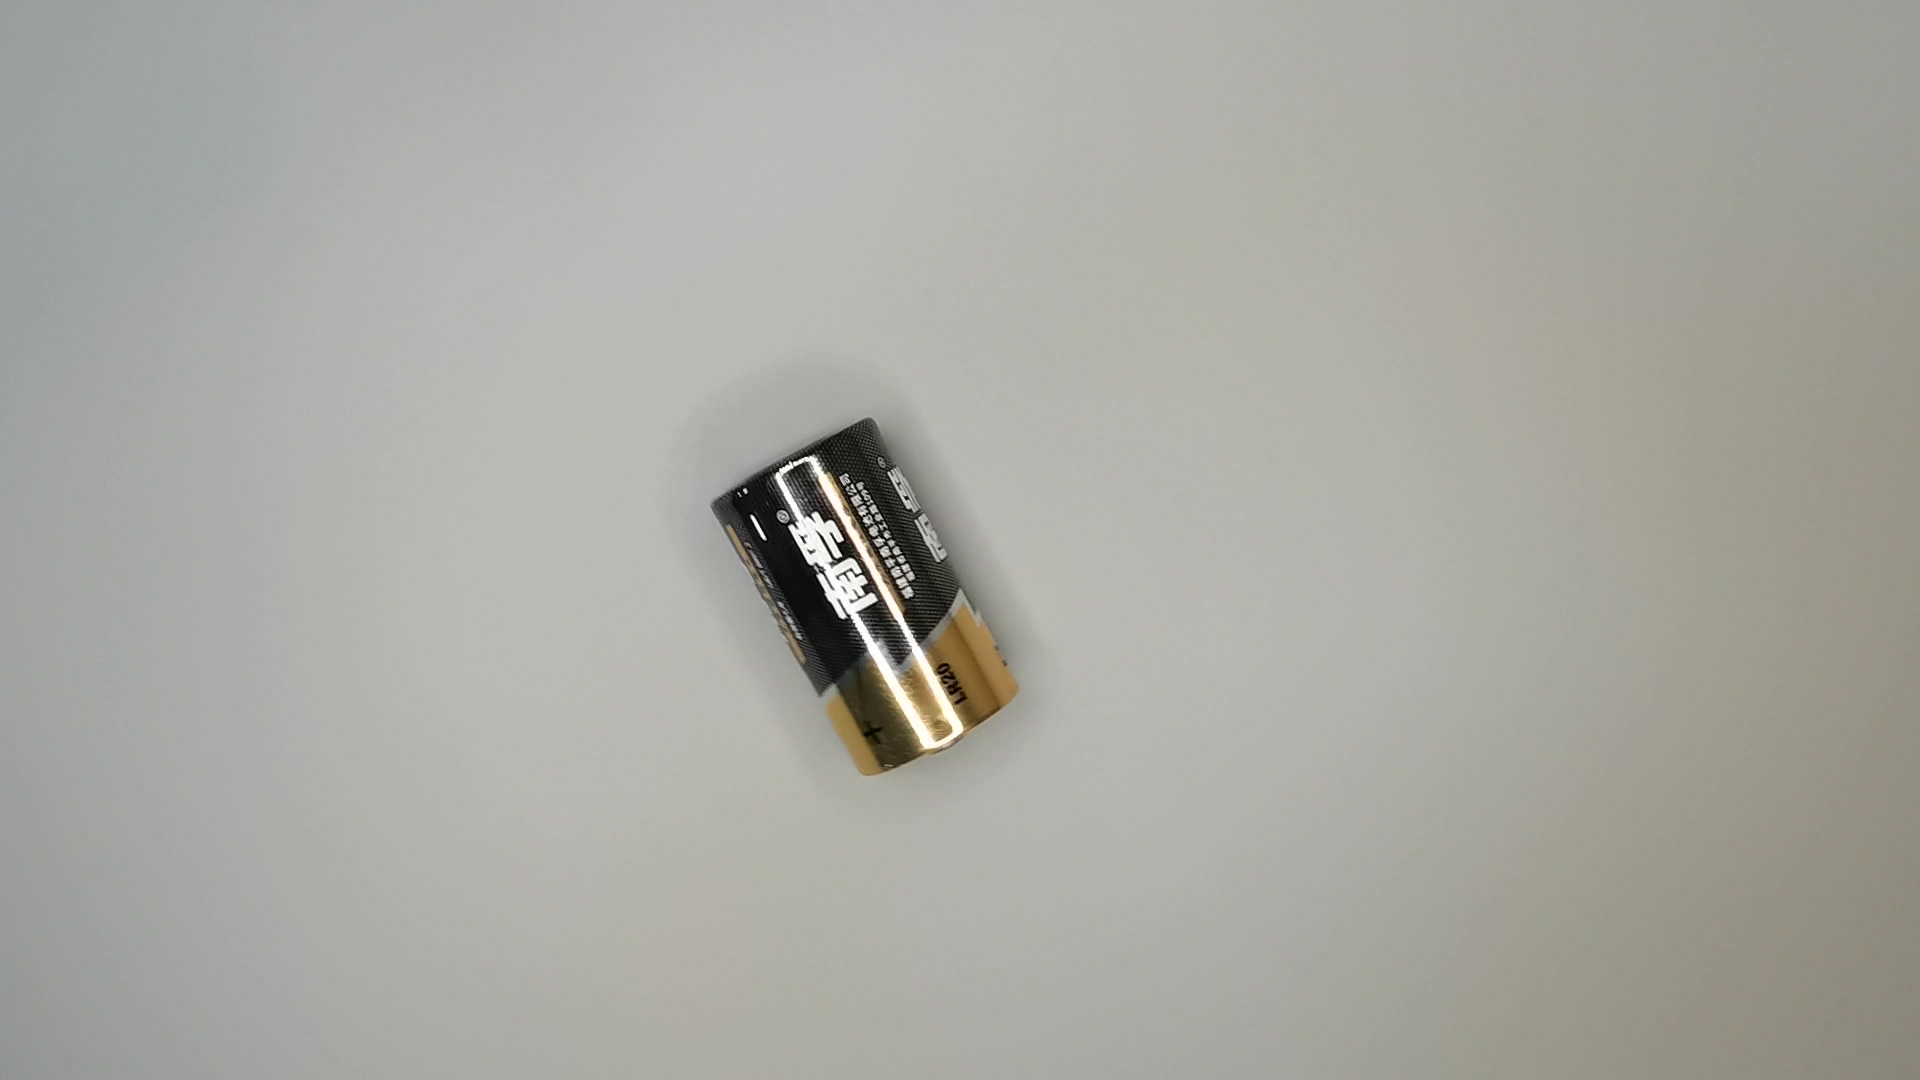battery: (703, 411, 1029, 786)
